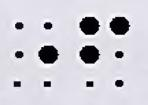dot_5: (14, 21, 58, 87)
two_cell_alphabet_papaano: (79, 16, 130, 87)
